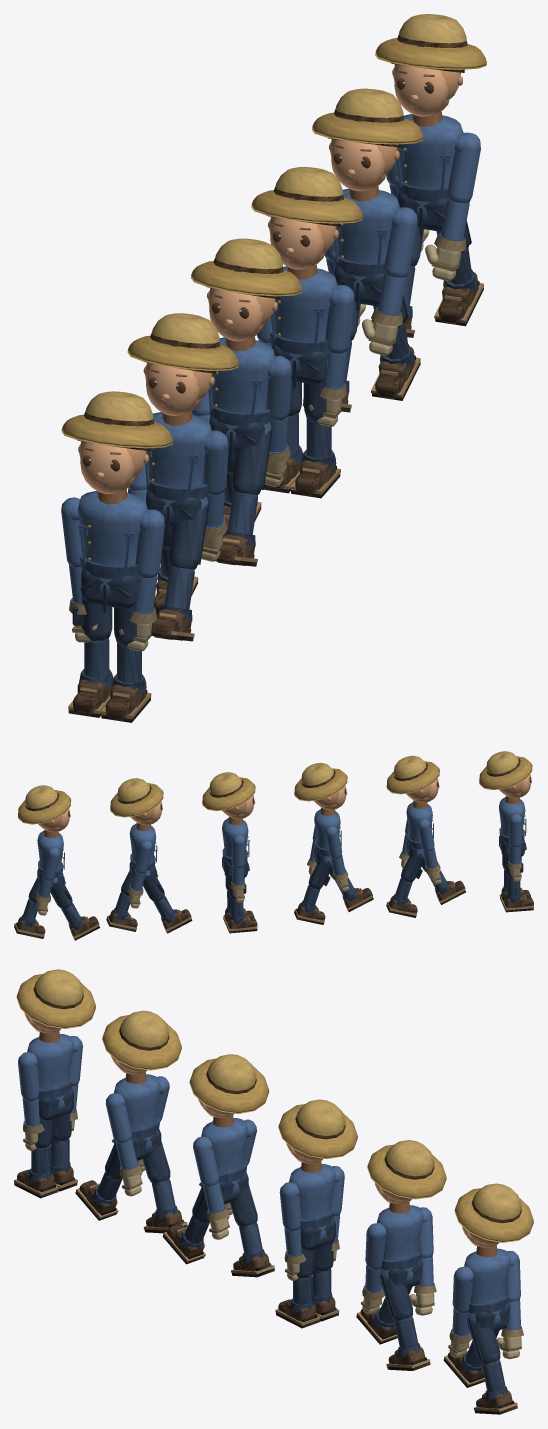
The model's file is ba-walk-side-before.glb.
3 views of the same model, one above another, from view 1: azimuth 30°, elevation 25°; view 2: azimuth 150°, elevation 25°; view 3: azimuth 270°, elevation 25° (orthographic). The views are drawn at different scales.
Parts seen in each view (by area): view 1: denimJacketTorso (×6), strawHat (×6), head (×6), leftShin (×6), leftUpperArm (×6), trouserHips (×6), rightShin (×2), leftThigh (×2), leftHandMesh (×2), leftLowerArm (×2), rightThigh, rightUpperArm; view 2: strawHat (×6), denimJacketTorso (×6), rightShin (×6), rightUpperArm (×6), leftShin (×4), head (×6), rightThigh (×4), rightLowerArm; view 3: strawHat (×6), denimJacketTorso (×6), leftShin (×6), rightShin (×6), leftUpperArm (×6), trouserHips (×4), leftThigh (×2), rightThigh (×2), rightHandMesh (×2), rightUpperArm (×2), leftHandMesh (×2).
Boxes of the visible parts, <box> form: denimJacketTorso (×6): <box>77,111,463,595</box>; strawHat (×6): <box>61,14,486,448</box>; head (×6): <box>77,63,464,493</box>; leftShin (×6): <box>101,248,483,722</box>; leftUpperArm (×6): <box>135,132,480,578</box>; trouserHips (×6): <box>80,192,447,613</box>; rightShin (×2): <box>68,413,302,717</box>; leftThigh (×2): <box>168,429,272,569</box>; leftHandMesh (×2): <box>362,234,466,355</box>; leftLowerArm (×2): <box>375,198,469,320</box>; rightThigh: <box>72,596,112,640</box>; rightUpperArm: <box>61,497,82,567</box>; strawHat (×6): <box>18,751,532,824</box>; denimJacketTorso (×6): <box>37,796,526,886</box>; rightShin (×6): <box>61,876,533,940</box>; rightUpperArm (×6): <box>42,813,522,880</box>; leftShin (×4): <box>14,870,465,938</box>; head (×6): <box>38,774,531,832</box>; rightThigh (×4): <box>50,854,424,908</box>; rightLowerArm: <box>37,877,53,900</box>; strawHat (×6): <box>16,969,533,1242</box>; denimJacketTorso (×6): <box>27,1031,510,1325</box>; leftShin (×6): <box>14,1145,517,1414</box>; rightShin (×6): <box>50,1138,484,1387</box>; leftUpperArm (×6): <box>18,1052,473,1313</box>; trouserHips (×4): <box>38,1088,509,1331</box>; leftThigh (×2): <box>381,1275,500,1363</box>; rightThigh (×2): <box>142,1141,257,1226</box>; rightHandMesh (×2): <box>409,1284,523,1359</box>; rightUpperArm (×2): <box>418,1207,520,1301</box>; leftHandMesh (×2): <box>120,1163,229,1239</box>.
Size of what is drawn, in the model's own units: 6.05 by 2.44 by 5.2.
